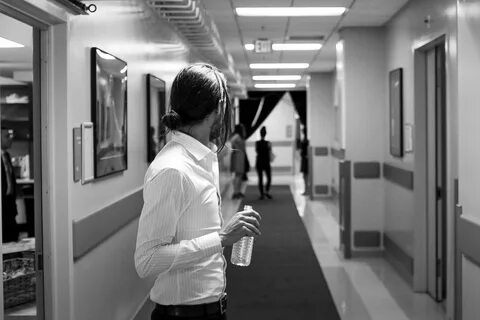awake: (133, 63, 232, 320), (228, 123, 248, 198), (256, 125, 274, 200)
